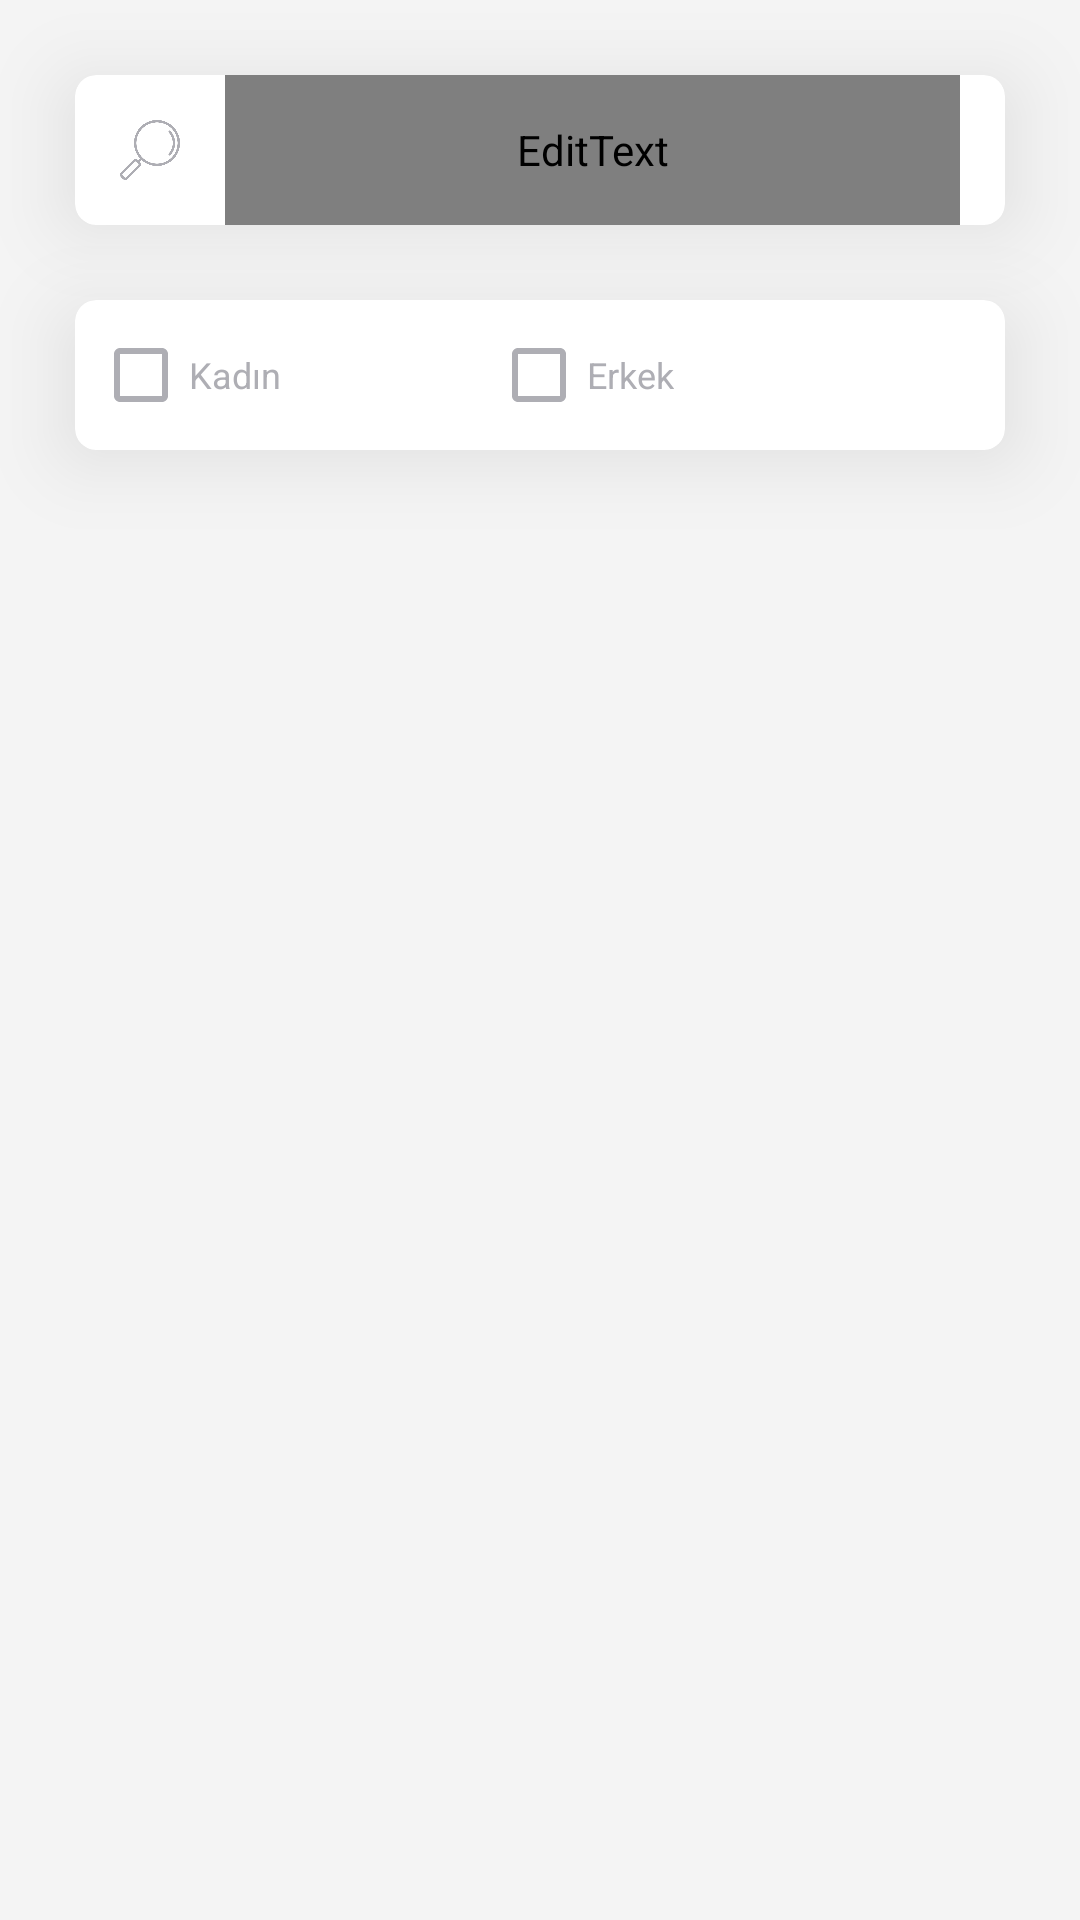

Point at icon controls on the screen. Image size 1080w x 1920h, points as [x,y].
search: [150,150]
